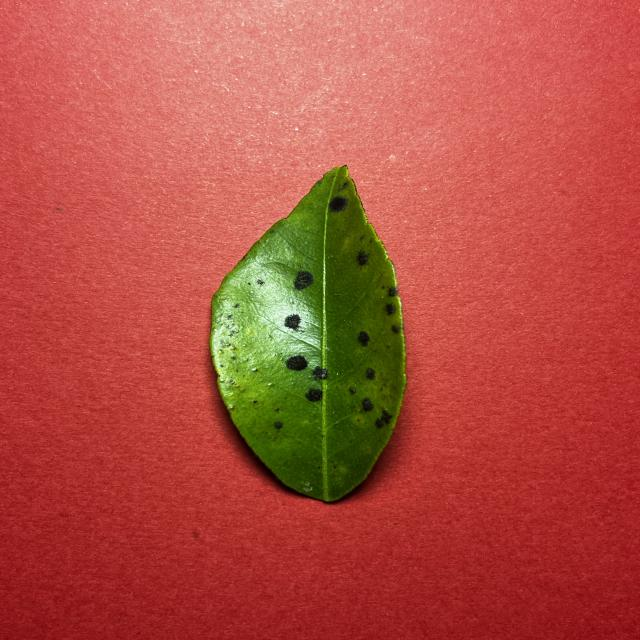sooty_mold: (210, 167, 406, 480)
